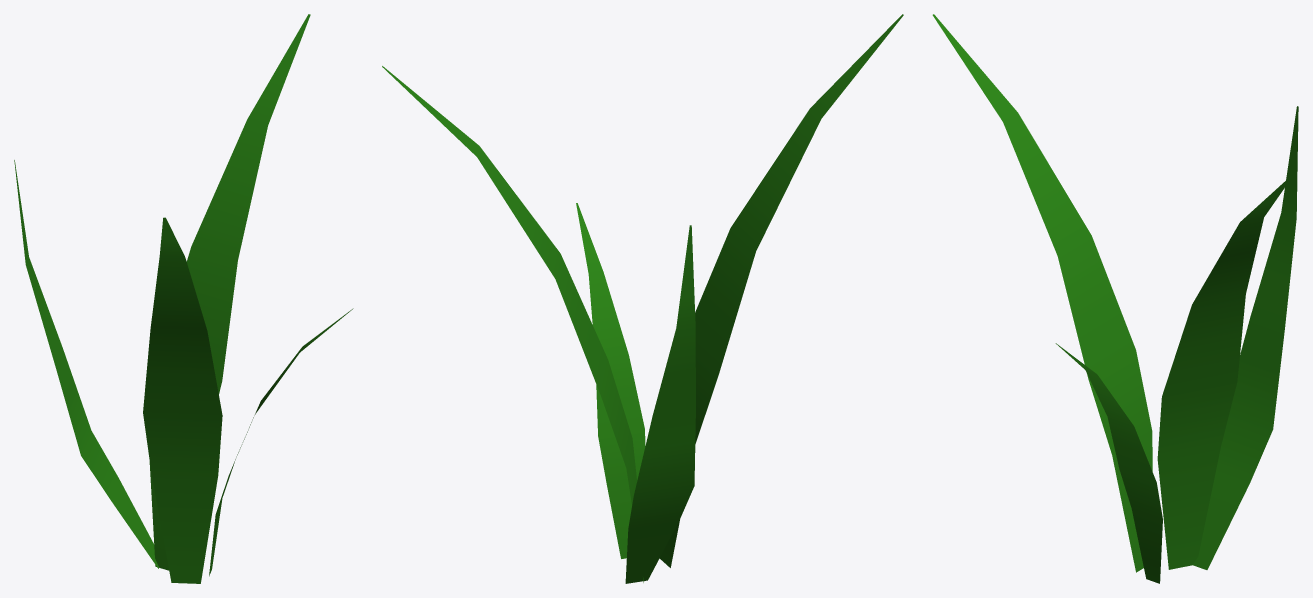
The model's file is SM_Grass_02.fbx.
3 views of the same model, side by side, from view 1: azimuth 30°, elevation 25°; view 2: azimuth 150°, elevation 25°; view 3: azimuth 270°, elevation 25° (orthographic). The views are drawn at different scales.
Visible parts, largest first — view 1: SM_Grass_02; view 2: SM_Grass_02; view 3: SM_Grass_02.
Boxes of the visible parts, <box> form: SM_Grass_02: <box>14,14,353,583</box>; SM_Grass_02: <box>382,14,903,583</box>; SM_Grass_02: <box>932,14,1298,583</box>.
Size of the model in its own units: 9.36 by 13.2 by 8.93.
